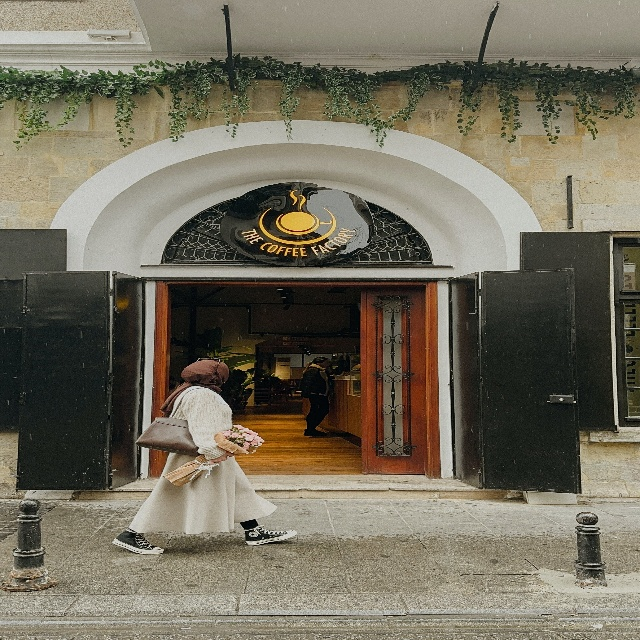Gafas: (196, 355, 220, 375)
Sin_guantes: (209, 451, 232, 463)
